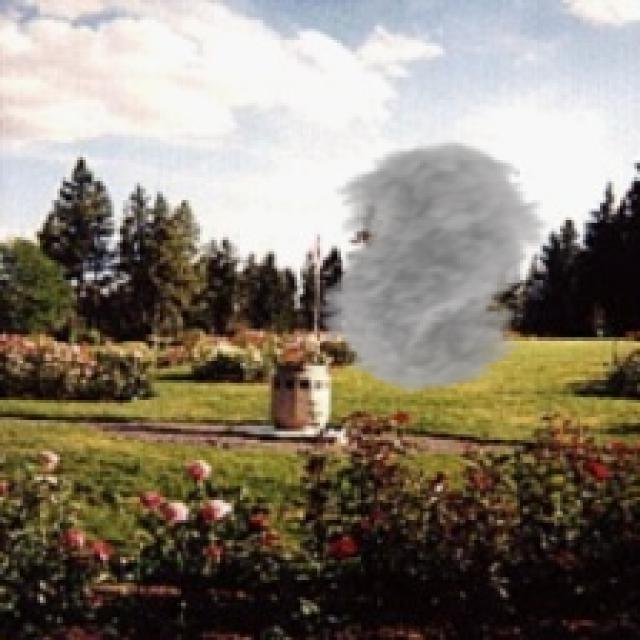smoke: (288, 140, 568, 394)
